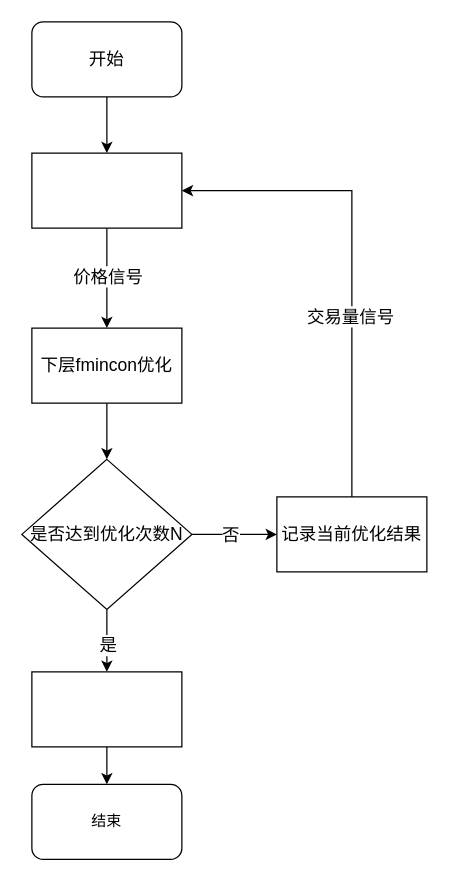
This 449x881 diagram has some shape labels left out. The centre of each missing label's shape, as x and y in pixels:
上层pso优化: (x=106, y=190)
输出优化结果: (x=106, y=709)
